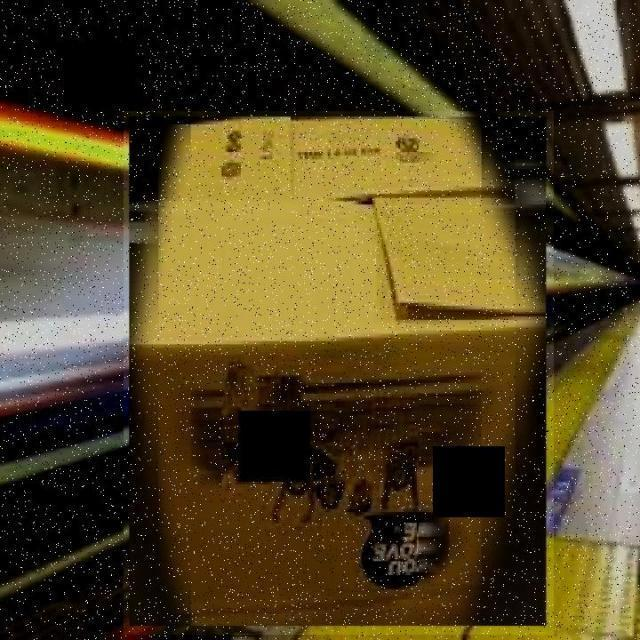box: (124, 111, 554, 636)
